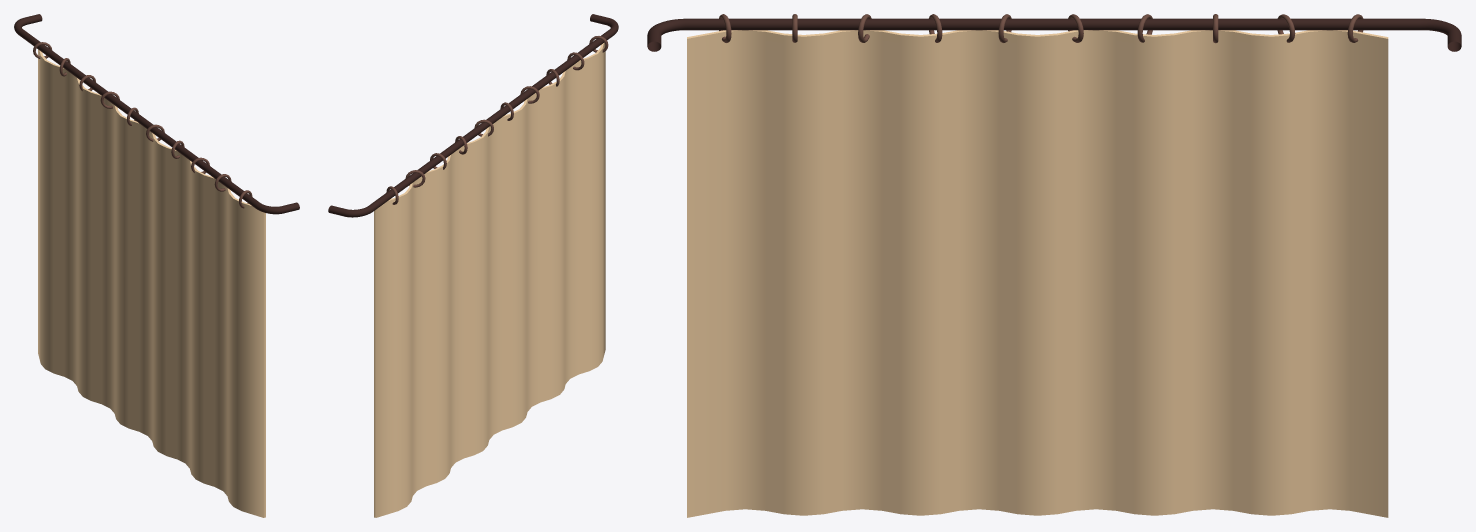
Rendered from Curtain01.fbx.
The picture shows the model from 3 angles, left to right: view 1: azimuth 30°, elevation 25°; view 2: azimuth 150°, elevation 25°; view 3: azimuth 270°, elevation 25°; orthographic projection. The views are drawn at different scales.
Parts seen in each view (by area): view 1: Curtain01; view 2: Curtain01; view 3: Curtain01.
Part boxes in pixels (x1,y1,x2,y2): Curtain01: (14,14,299,517); Curtain01: (328,14,618,517); Curtain01: (647,14,1461,517).
Size of the model in its own units: 0.2303 by 2.79 by 1.88.
